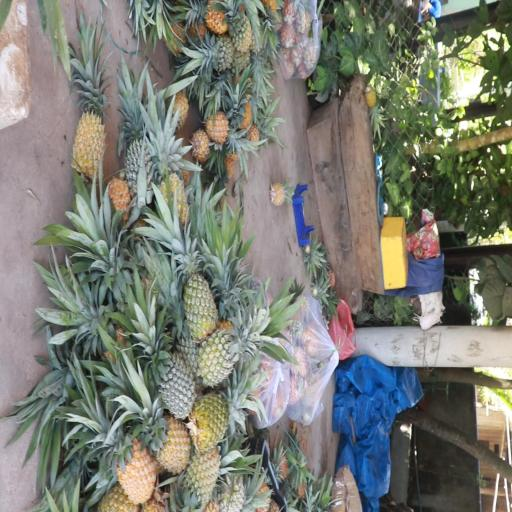------------------------------: (199, 306, 273, 382), (172, 234, 219, 337), (187, 382, 260, 444)
Pineapple - v8 v1: (96, 419, 158, 504), (72, 66, 108, 184), (134, 399, 192, 471), (152, 137, 190, 228), (179, 439, 223, 510), (201, 105, 245, 150)
